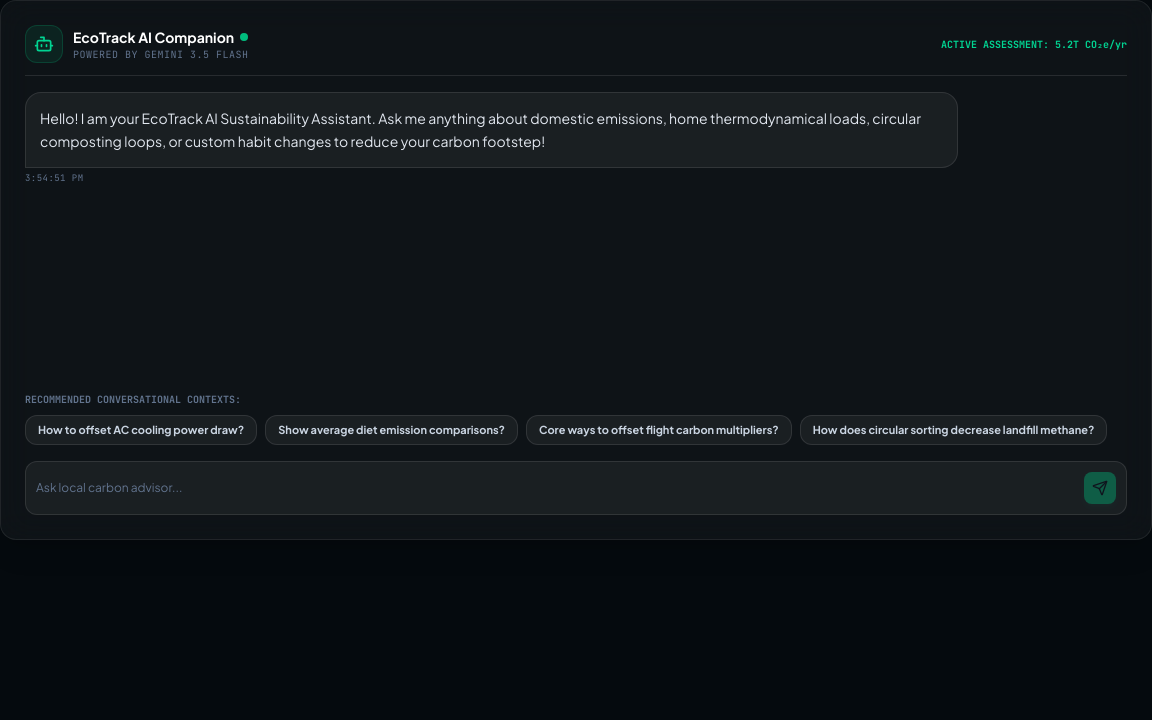
Scenario: AiAssistant › sends a message and handles the API response
The width and height of the screenshot is (1152, 720).
# Type a message
In the field with placeholder "Ask local carbon advisor...": (556, 488) top-left (36, 480), bottom-right (1076, 496), type "How can I reduce emissions?"
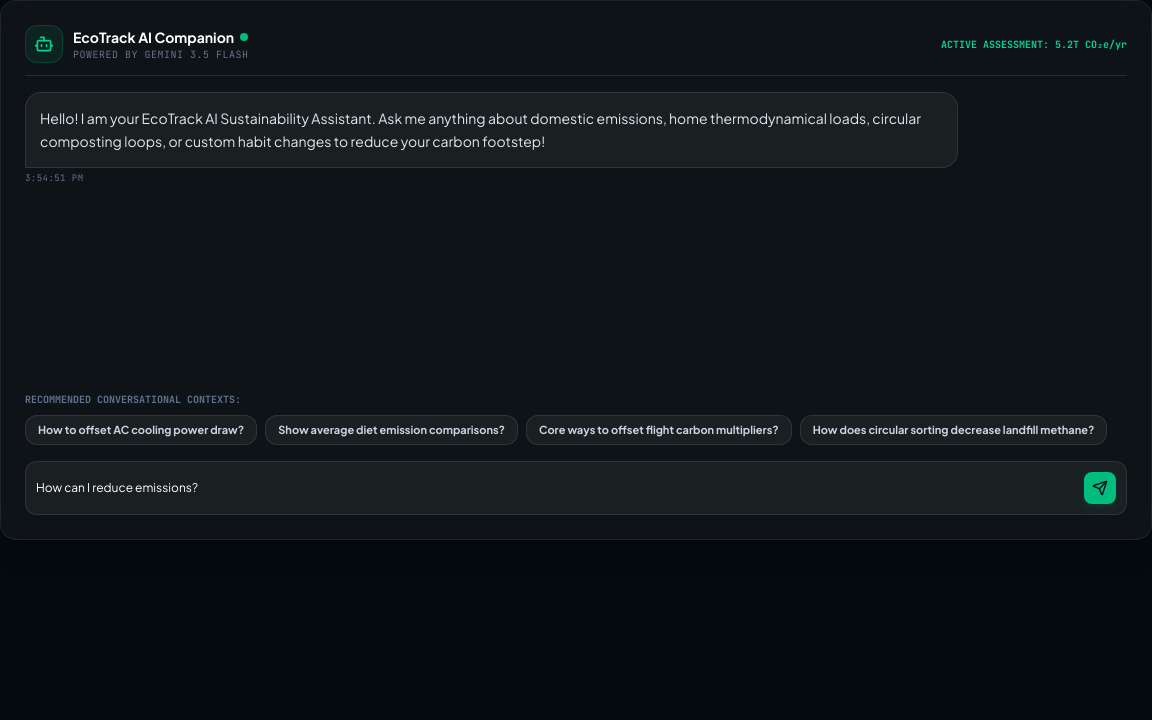
# Click send
Click the button named "Send Message": (1100, 488) top-left (1084, 472), bottom-right (1116, 504)
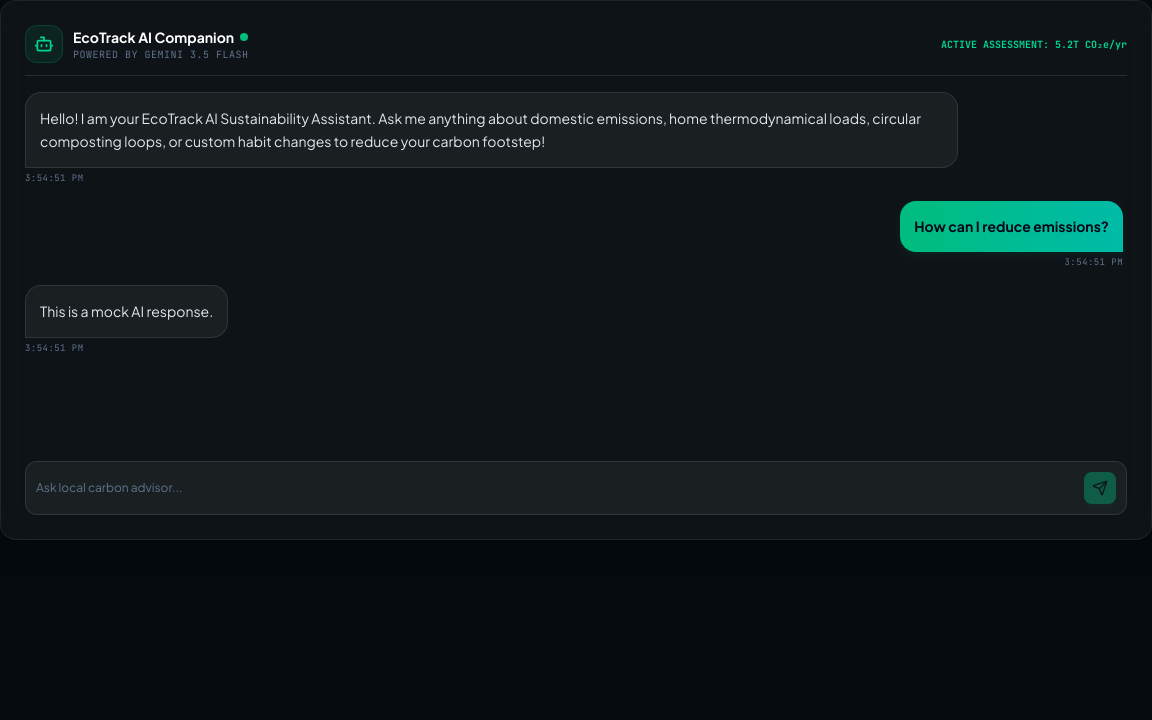
expect the text "How can I reduce emissions?" is shown: met, box top-left (914, 215), bottom-right (1109, 238)
expect the text "This is a mock AI response." is shown: met, box top-left (40, 300), bottom-right (213, 323)
